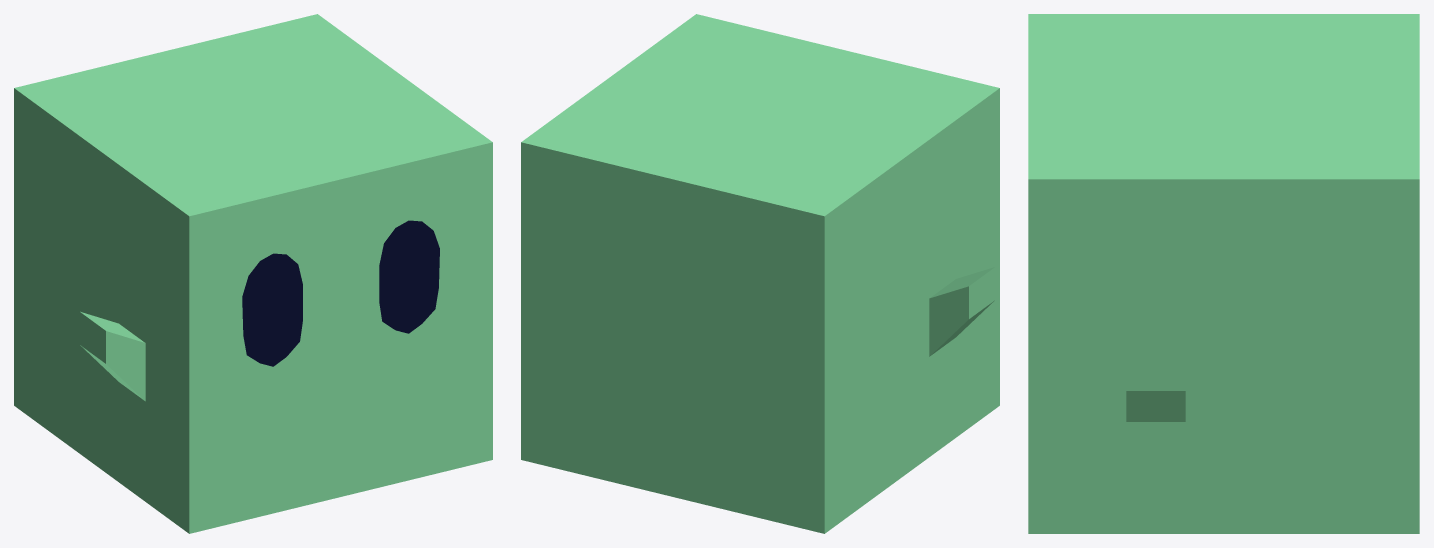
Rendered from new_cube_minion.dae.
The picture shows the model from 3 angles, left to right: view 1: azimuth 30°, elevation 25°; view 2: azimuth 150°, elevation 25°; view 3: azimuth 270°, elevation 25°; orthographic projection. The views are drawn at different scales.
Parts seen in each view (by area): view 1: Cube; view 2: Cube; view 3: Cube.
Boxes of the visible parts, x1,y1,x2,y2 form: Cube: [14, 14, 492, 533]; Cube: [521, 14, 999, 533]; Cube: [1028, 14, 1419, 533].
Size of the model in its own units: 2.52 by 2 by 2.
Materials: 2 (2 with a texture image).
